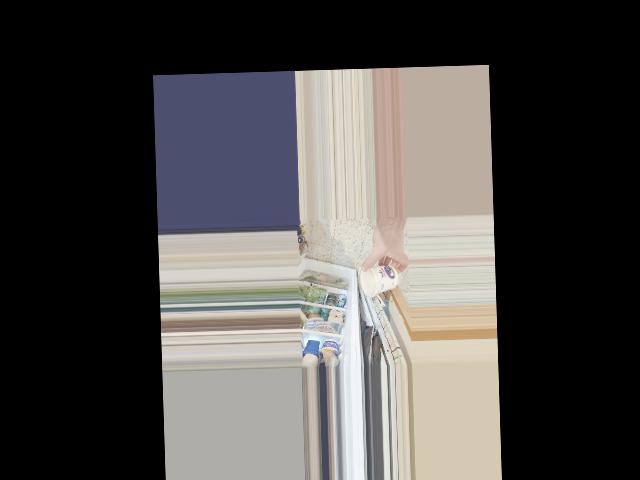cotage: (360, 261, 400, 296)
